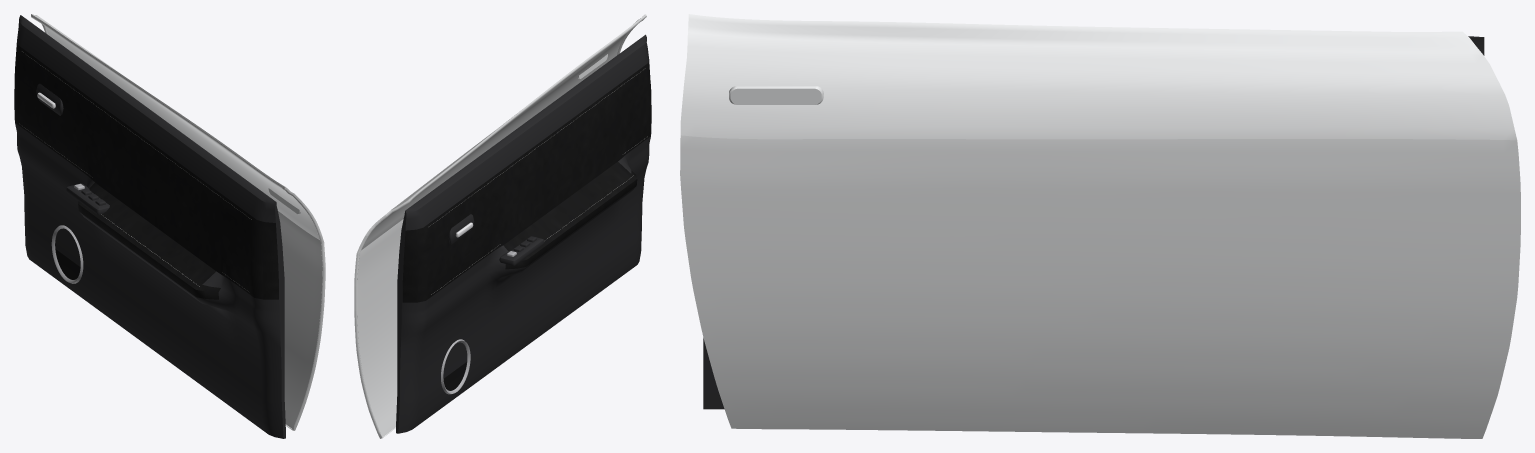
Rendered from door_FR.fbx.
3 views of the same model, side by side, from view 1: azimuth 30°, elevation 25°; view 2: azimuth 150°, elevation 25°; view 3: azimuth 270°, elevation 25° (orthographic). The views are drawn at different scales.
Parts seen in each view (by area): view 1: CH_Int_DoorCard_R, CH_Door_R; view 2: CH_Int_DoorCard_R, CH_Door_R; view 3: CH_Door_R, CH_Door_Handle_R, CH_Int_DoorCard_R.
Boxes of the visible parts, box(x1,y1,x2,y2) form: CH_Int_DoorCard_R: box(14, 15, 285, 438); CH_Door_R: box(31, 14, 325, 430); CH_Int_DoorCard_R: box(396, 34, 651, 433); CH_Door_R: box(354, 14, 646, 438); CH_Door_R: box(680, 14, 1520, 438); CH_Door_Handle_R: box(729, 86, 823, 104); CH_Int_DoorCard_R: box(703, 36, 1484, 409).
Size of the model in its own units: 0.2341 by 0.7609 by 1.42.
